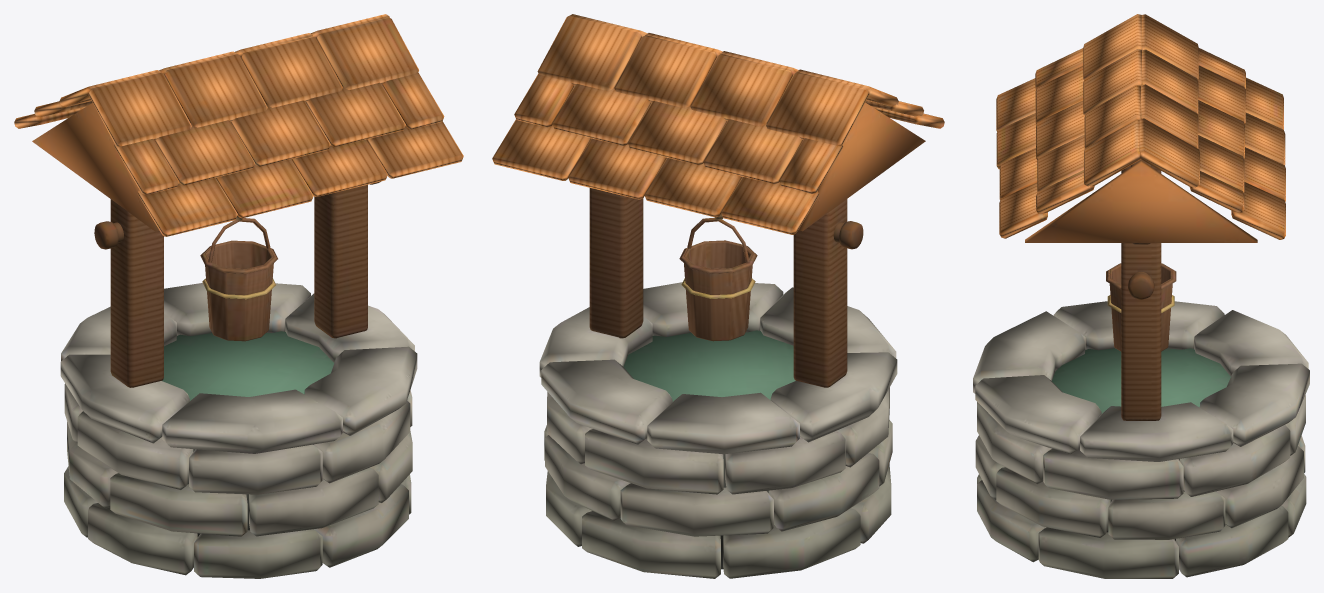
The model's file is well_4_mid.glb.
3 views of the same model, side by side, from view 1: azimuth 30°, elevation 25°; view 2: azimuth 150°, elevation 25°; view 3: azimuth 270°, elevation 25° (orthographic). The views are drawn at different scales.
Visible parts, largest first — view 1: well_4; view 2: well_4; view 3: well_4.
Boxes of the visible parts, <box> form: well_4: <box>14,14,463,578</box>; well_4: <box>492,14,944,578</box>; well_4: <box>973,14,1309,578</box>.
Bounding box in the file's own units: 1.31 × 1.84 × 1.3.
Materials: 1 (1 with a texture image).
